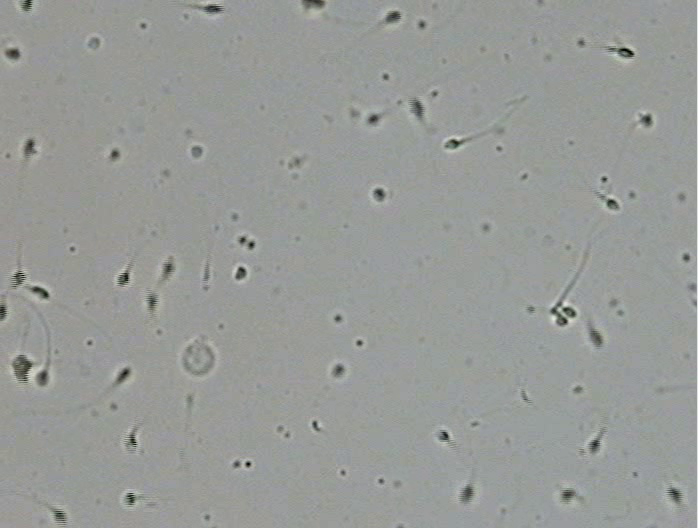Impurity: (183, 344, 214, 375), (87, 37, 101, 49)
S: (11, 354, 33, 385), (144, 287, 159, 312), (408, 97, 425, 119), (665, 486, 683, 505), (51, 509, 68, 527), (458, 485, 474, 504), (589, 328, 603, 349), (11, 270, 26, 289), (31, 286, 50, 300), (124, 433, 138, 452), (560, 488, 576, 504), (161, 260, 175, 278), (384, 10, 402, 24), (203, 4, 225, 15), (23, 138, 35, 158), (616, 47, 635, 59), (117, 367, 131, 383), (588, 438, 601, 455), (301, 1, 325, 10), (234, 266, 248, 281), (117, 271, 130, 287), (35, 370, 48, 386), (4, 48, 21, 60), (605, 198, 620, 211), (123, 492, 135, 508), (372, 188, 385, 202), (640, 112, 653, 126), (17, 1, 33, 12), (436, 430, 450, 442), (332, 364, 344, 377), (444, 139, 459, 149), (191, 146, 203, 158), (563, 307, 576, 317), (366, 114, 378, 124), (556, 316, 568, 326), (110, 149, 120, 160), (1, 304, 5, 320)
